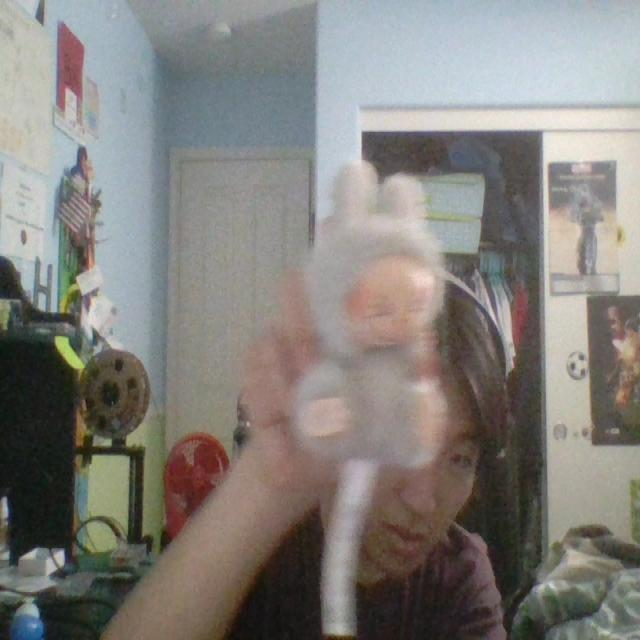labubu: (293, 164, 453, 467)
